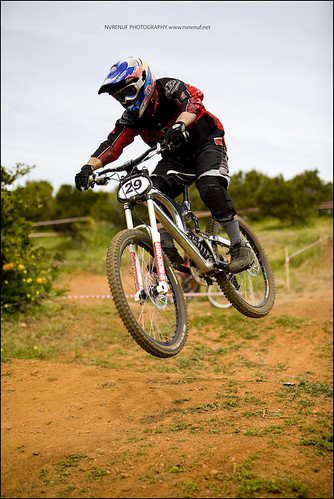helmet: (87, 53, 160, 117)
